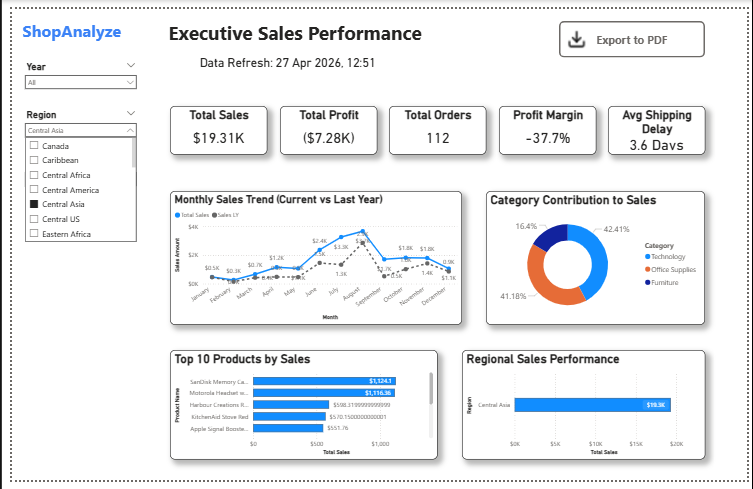

The dashboard page shown, as its layout file describes it:
{"tool":"powerbi","page":{"name":"Executive Overview","canvas":[1450,930],"ordinal":0},"visuals":[{"type":"slicer","fields":{"Values":["orders.Order Year"]},"box":[16,96,240,64],"z":0},{"type":"slicer","fields":{"Values":["orders.Region"]},"box":[16,192,240,64],"z":1000},{"type":"slicer","fields":{"Values":["orders.Category"]},"box":[16,288,240,64],"z":2000},{"type":"card","title":"Total Sales","fields":{"Values":["orders.Total Sales"]},"box":[312,192,192,96],"z":3000},{"type":"card","title":"Total Profit","fields":{"Values":["orders.Total Profit"]},"box":[528,192,192,96],"z":4000},{"type":"card","title":"Total Orders","fields":{"Values":["orders.Total Orders"]},"box":[744,192,192,96],"z":5000},{"type":"card","title":"Profit Margin","fields":{"Values":["orders.Profit Margin"]},"box":[960,192,192,96],"z":6000},{"type":"card","title":"Avg Shipping Delay","fields":{"Values":["orders.Avg Shipping Delay Display"]},"box":[1176,192,192,96],"z":7000},{"type":"lineChart","title":"Monthly Sales Trend (Current vs Last Year)","fields":{"Y":["orders.Total Sales","orders.Sales LY"],"Category":["Date Table.Month"]},"box":[312,360,576,264],"z":8000},{"type":"donutChart","title":"Category Contribution to Sales","fields":{"Category":["orders.Category"],"Y":["orders.Total Sales"]},"box":[936,360,432,264],"z":9000},{"type":"clusteredBarChart","title":"Top 10 Products by Sales","fields":{"Y":["orders.Total Sales"],"Category":["orders.Product Name"]},"box":[312,672,528,216],"z":10000},{"type":"clusteredBarChart","title":"Regional Sales Performance","fields":{"Category":["orders.Region"],"Y":["orders.Total Sales"]},"box":[888,672,480,216],"z":11000},{"type":"textbox","box":[16,16,240,64],"z":12000},{"type":"textbox","box":[304,16,608,64],"z":13000},{"type":"card","fields":{"Values":["Refresh Time.Last Refresh Time"]},"box":[304,80,480,48],"z":14000},{"type":"actionButton","box":[1080,24,288,72],"z":15000}]}

Visuals, with their boxes in screenshot pixels (x1, y1, x2, y2), scaled from the page's 1450x930 canvas onto the 753x489 screenshot:
slicer - orders.Order Year: [left=8, top=50, right=133, bottom=84]
slicer - orders.Region: [left=8, top=101, right=133, bottom=135]
slicer - orders.Category: [left=8, top=151, right=133, bottom=185]
"Total Sales" card: [left=162, top=101, right=262, bottom=151]
"Total Profit" card: [left=274, top=101, right=374, bottom=151]
"Total Orders" card: [left=386, top=101, right=486, bottom=151]
"Profit Margin" card: [left=499, top=101, right=598, bottom=151]
"Avg Shipping Delay" card: [left=611, top=101, right=710, bottom=151]
"Monthly Sales Trend (Current vs Last Year)" lineChart: [left=162, top=189, right=461, bottom=328]
"Category Contribution to Sales" donutChart: [left=486, top=189, right=710, bottom=328]
"Top 10 Products by Sales" clusteredBarChart: [left=162, top=353, right=436, bottom=467]
"Regional Sales Performance" clusteredBarChart: [left=461, top=353, right=710, bottom=467]
textbox: [left=8, top=8, right=133, bottom=42]
textbox: [left=158, top=8, right=474, bottom=42]
card - Refresh Time.Last Refresh Time: [left=158, top=42, right=407, bottom=67]
actionButton: [left=561, top=13, right=710, bottom=50]
